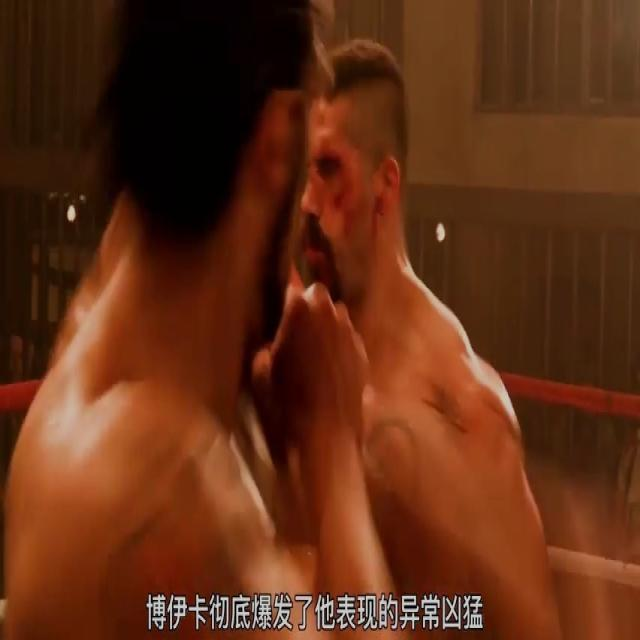fight: (2, 1, 597, 639)
